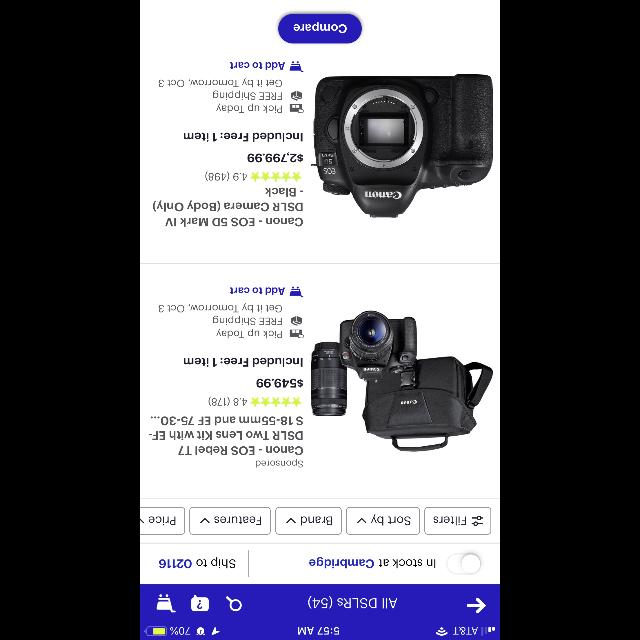icon: (250, 172, 302, 182), (250, 397, 302, 407), (157, 594, 176, 612), (466, 597, 486, 613), (192, 594, 208, 612), (226, 596, 242, 610), (289, 286, 303, 298), (289, 62, 303, 72), (200, 518, 210, 522), (286, 518, 296, 522), (358, 518, 367, 522)
image: (311, 74, 493, 218), (311, 310, 493, 452), (290, 329, 304, 338), (290, 105, 304, 113), (292, 91, 302, 101), (292, 316, 302, 326)
switch: (446, 552, 482, 574)
text: (149, 416, 303, 456), (153, 188, 303, 226), (158, 304, 282, 338), (158, 78, 282, 112), (309, 557, 435, 569), (184, 132, 302, 142), (308, 596, 398, 608), (184, 358, 302, 367), (159, 558, 235, 568), (255, 458, 302, 468), (257, 378, 303, 388), (230, 287, 286, 295), (248, 154, 304, 162), (230, 62, 286, 70), (205, 171, 247, 181), (208, 396, 248, 406)
textbutton: (278, 14, 362, 44), (190, 507, 270, 535), (346, 507, 420, 535), (424, 507, 492, 535), (275, 507, 341, 535), (140, 507, 186, 535)
uppertaskbar: (140, 626, 500, 640)
